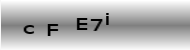7: (90, 18, 103, 32)
E: (76, 17, 88, 31)
F: (46, 23, 58, 37)
c: (23, 24, 35, 34)
i: (104, 12, 110, 26)
